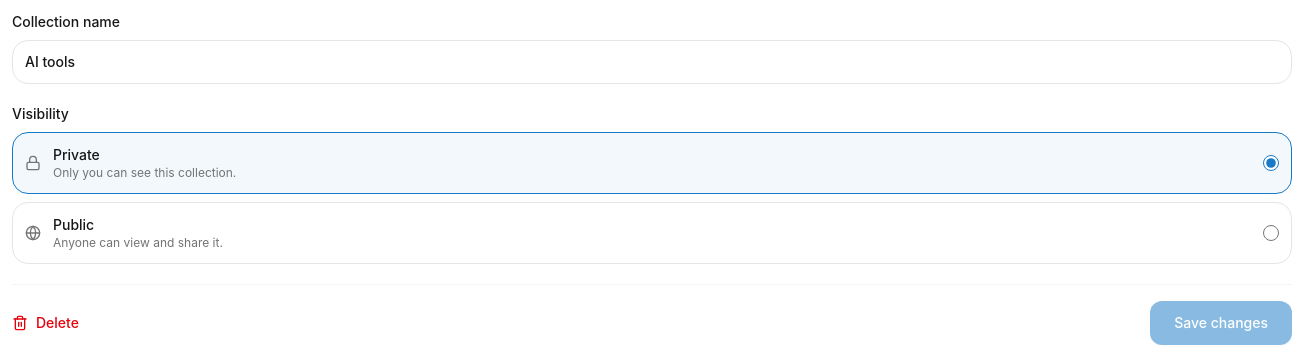
Scenario: requires an explicit second action to publish and allows cancelling
This screenshot has width=1304, height=362.
Later steps or results of the test are not shown.
Click the radio button labelled "Public" at (1271, 233), box [1263, 225, 1279, 241]
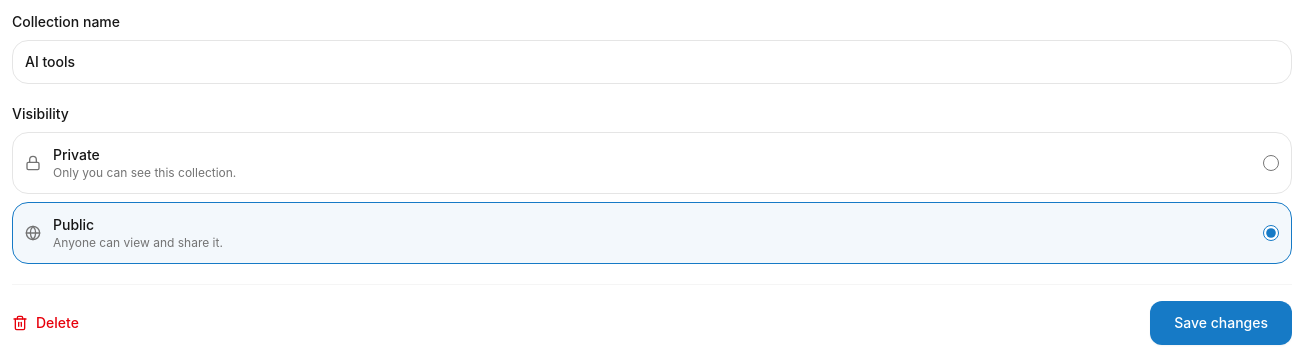
Click the button "Save changes" at (1221, 323), box [1150, 301, 1292, 345]
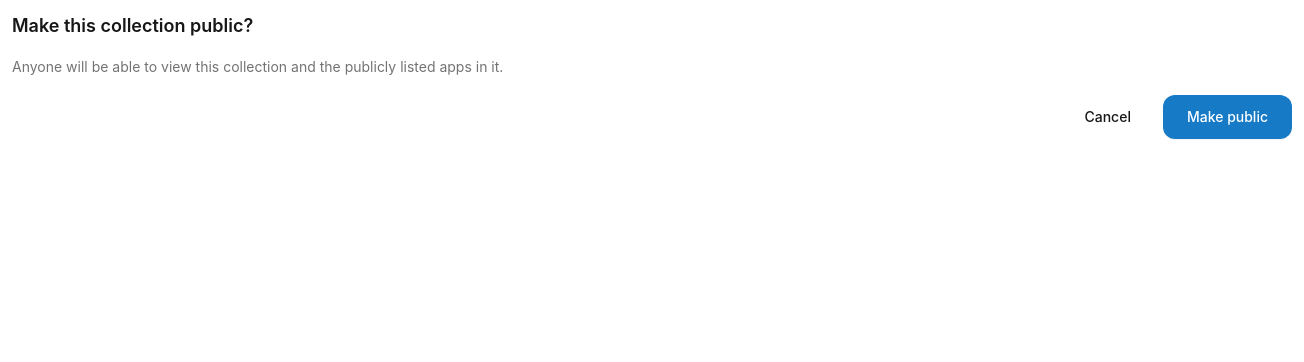
Now the heading "Make this collection public?" is shown, box [12, 15, 253, 36]
